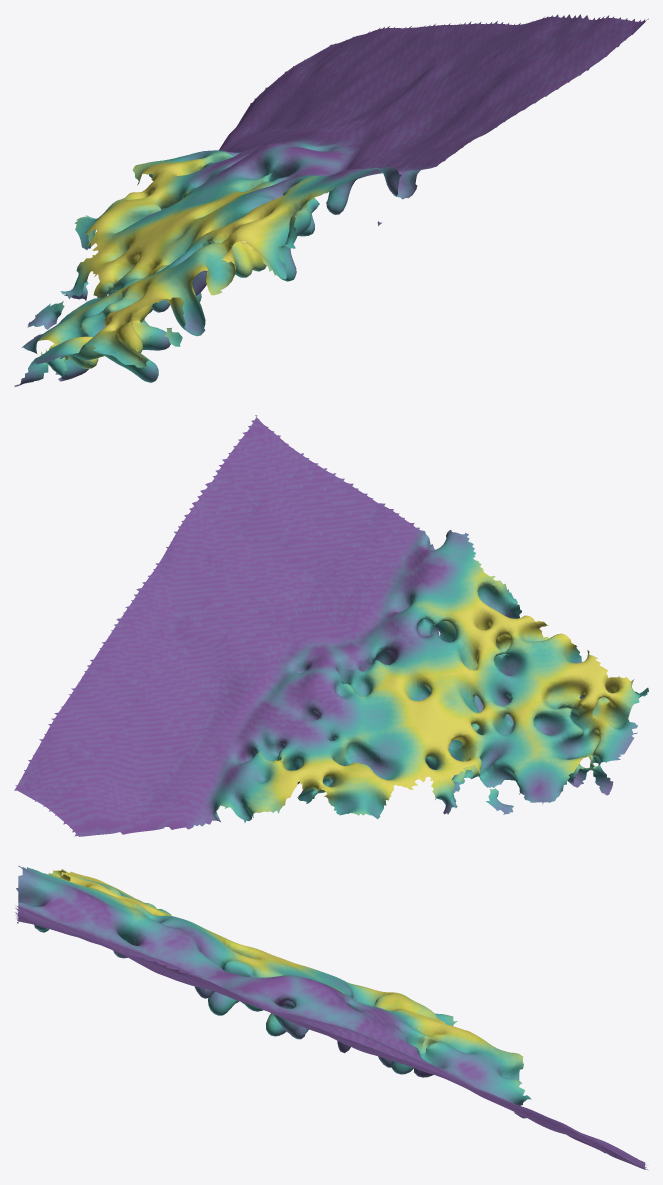
File: crop1072_gap.glb
3 views of the same model, one above another, from view 1: azimuth 30°, elevation 25°; view 2: azimuth 150°, elevation 25°; view 3: azimuth 270°, elevation 25° (orthographic). The views are drawn at different scales.
Visible parts, largest first — view 1: geometry_0; view 2: geometry_0; view 3: geometry_0.
Boxes of the visible parts, bbox=[...] form: geometry_0: bbox=[14, 14, 648, 386]; geometry_0: bbox=[14, 415, 648, 836]; geometry_0: bbox=[15, 865, 648, 1170].
Size of the model in its own units: 2324 by 1215 by 2334.
